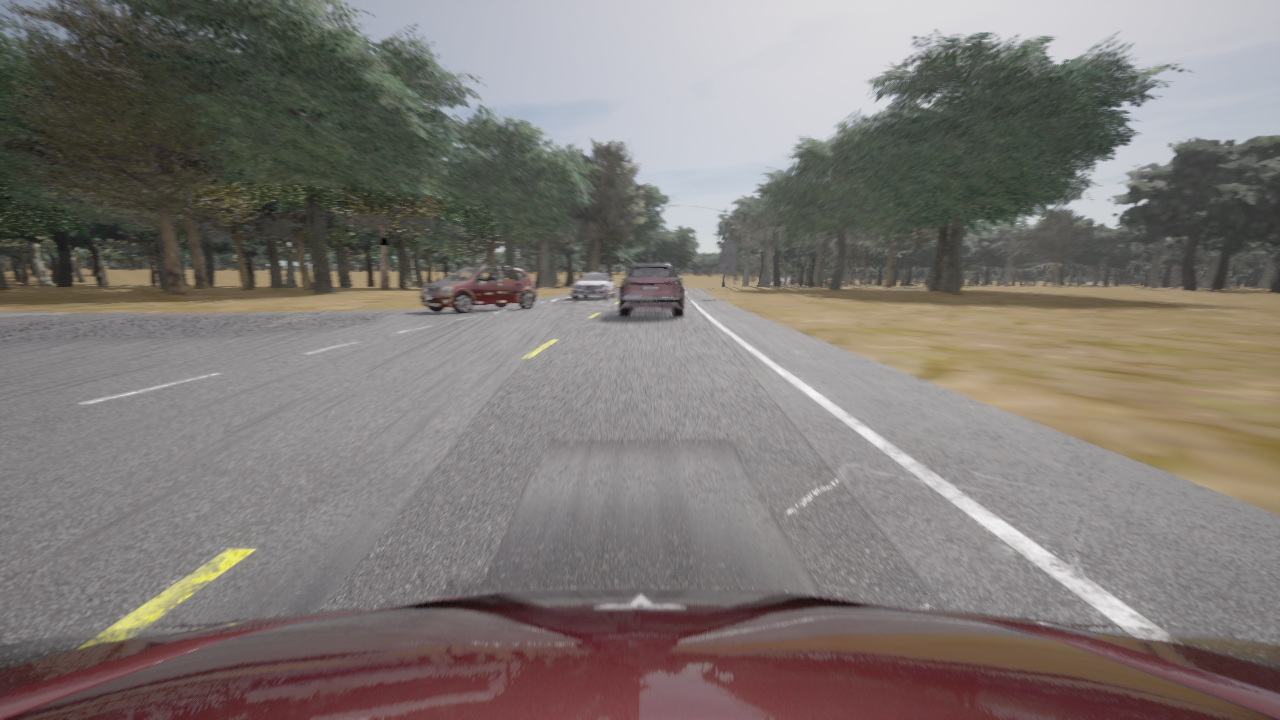cyclist: (0, 588, 1279, 719), (419, 265, 537, 313), (619, 261, 683, 316), (570, 272, 615, 299), (655, 262, 676, 273)
